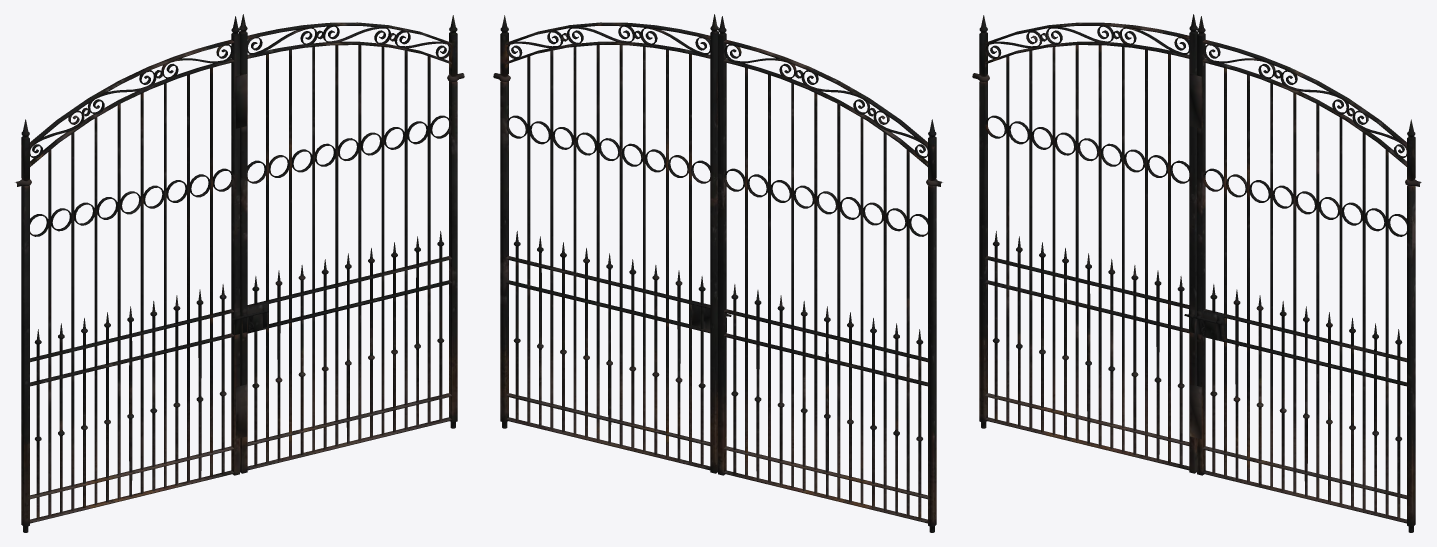
The model's file is iron_gate.glb.
The picture shows the model from 3 angles, left to right: view 1: azimuth 30°, elevation 25°; view 2: azimuth 150°, elevation 25°; view 3: azimuth 330°, elevation 25°; orthographic projection.
Parts seen in each view (by area): view 1: large_iron_gate_right_door, large_iron_gate_left_door; view 2: large_iron_gate_left_door, large_iron_gate_right_door; view 3: large_iron_gate_right_door, large_iron_gate_left_door.
Part boxes in pixels (x1,y1,x2,y2): large_iron_gate_right_door: (235, 14, 457, 473); large_iron_gate_left_door: (21, 16, 241, 532); large_iron_gate_left_door: (718, 16, 936, 532); large_iron_gate_right_door: (500, 14, 718, 473); large_iron_gate_right_door: (1190, 16, 1415, 532); large_iron_gate_left_door: (979, 14, 1197, 473).
Bounding box in the file's own units: 2.95 × 2.93 × 0.0973.
1 material, 1 textured.
